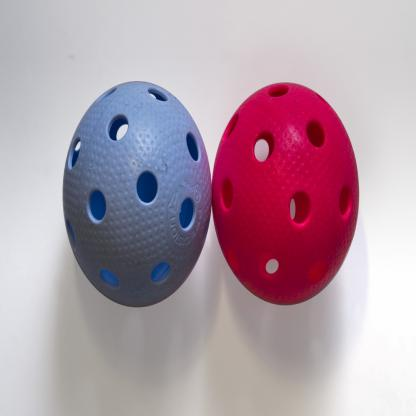Ball: (210, 82, 360, 306), (63, 82, 211, 307)
